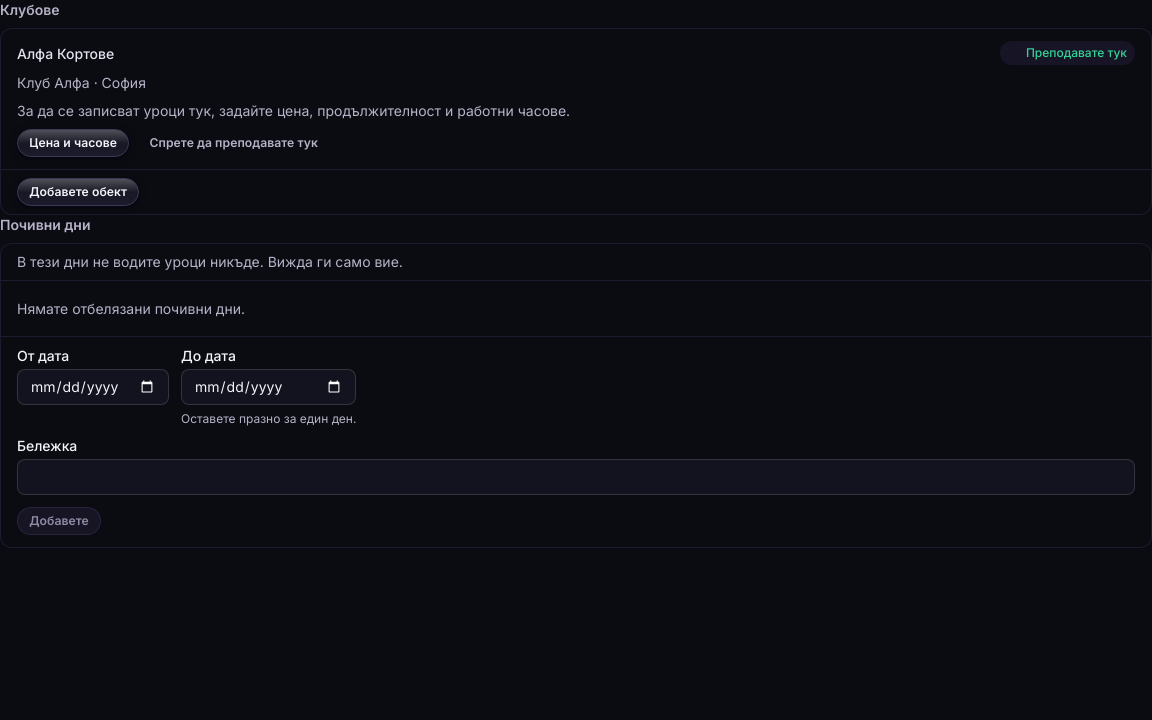
it: asking a venue › searches the public venue index, asks the one chosen, and closes on the answer
Click the button with test id "coach-venue-add" at (78, 192), box [17,178,139,206]
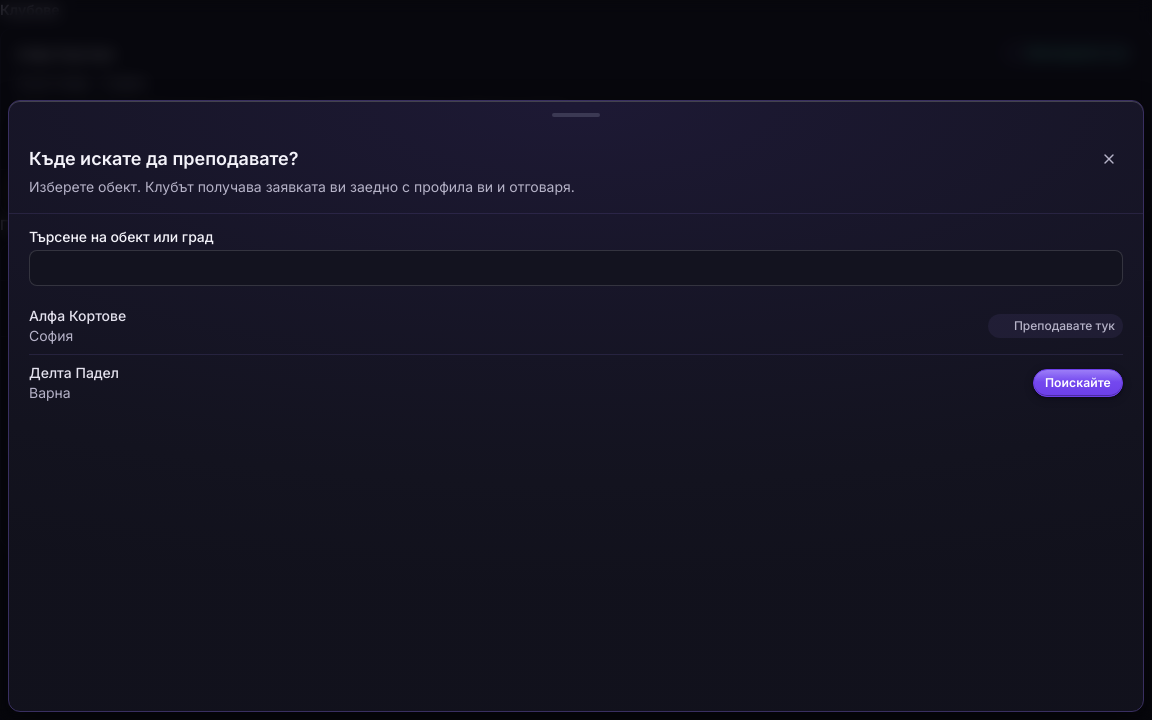
Expected: the text "Делта Падел" is shown, [29,363,119,383]
Type "делта" into the field with test id "coach-venue-search" at (576, 268), box [29,250,1123,286]
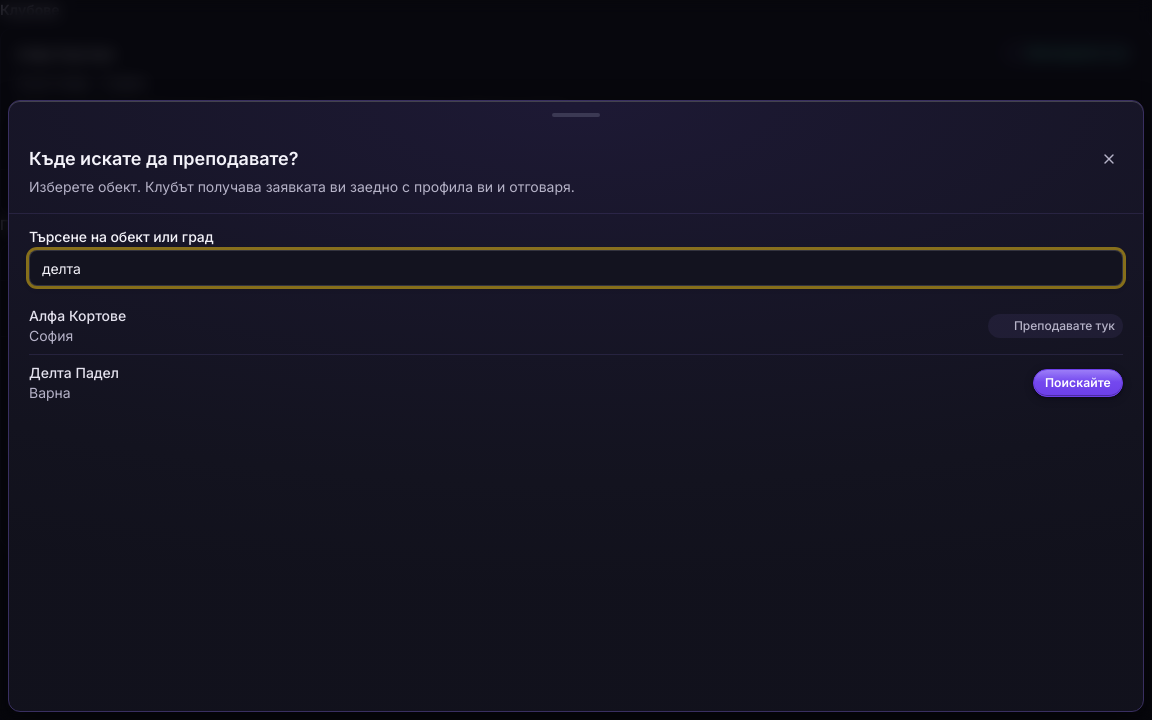
Click the button with test id "coach-venue-ask" at (1078, 383), box [1033,369,1123,397]
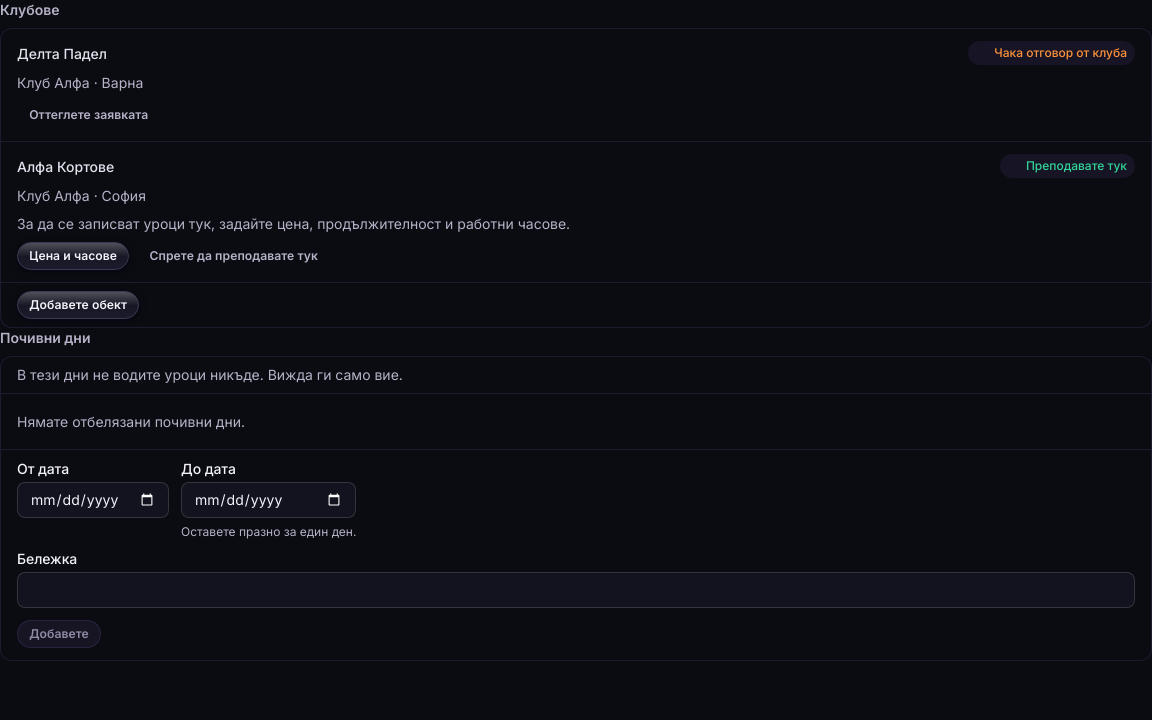
Expected: the list with test id "coach-venue-results" is gone
